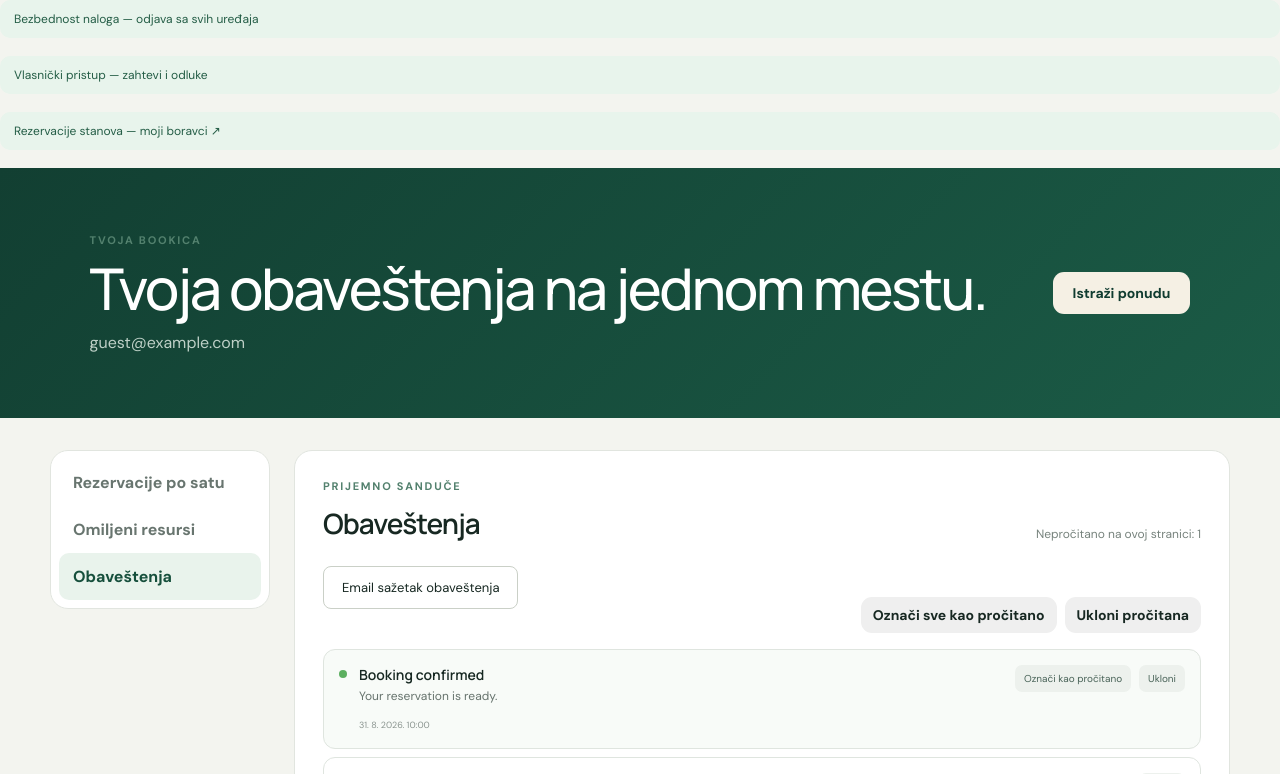
Test: AccountDashboard notification inbox › marks an individual notification as read and updates the unread count
The image size is (1280, 774).
expect the heading "Booking confirmed" is shown: met, box [359,665,484,684]
expect the text "Nepročitano na ovoj stranici: 1" is shown: met, box [1036,526,1201,542]
Click the button "Označi kao pročitano".
click(1073, 678)  # box [1015,665,1131,692]
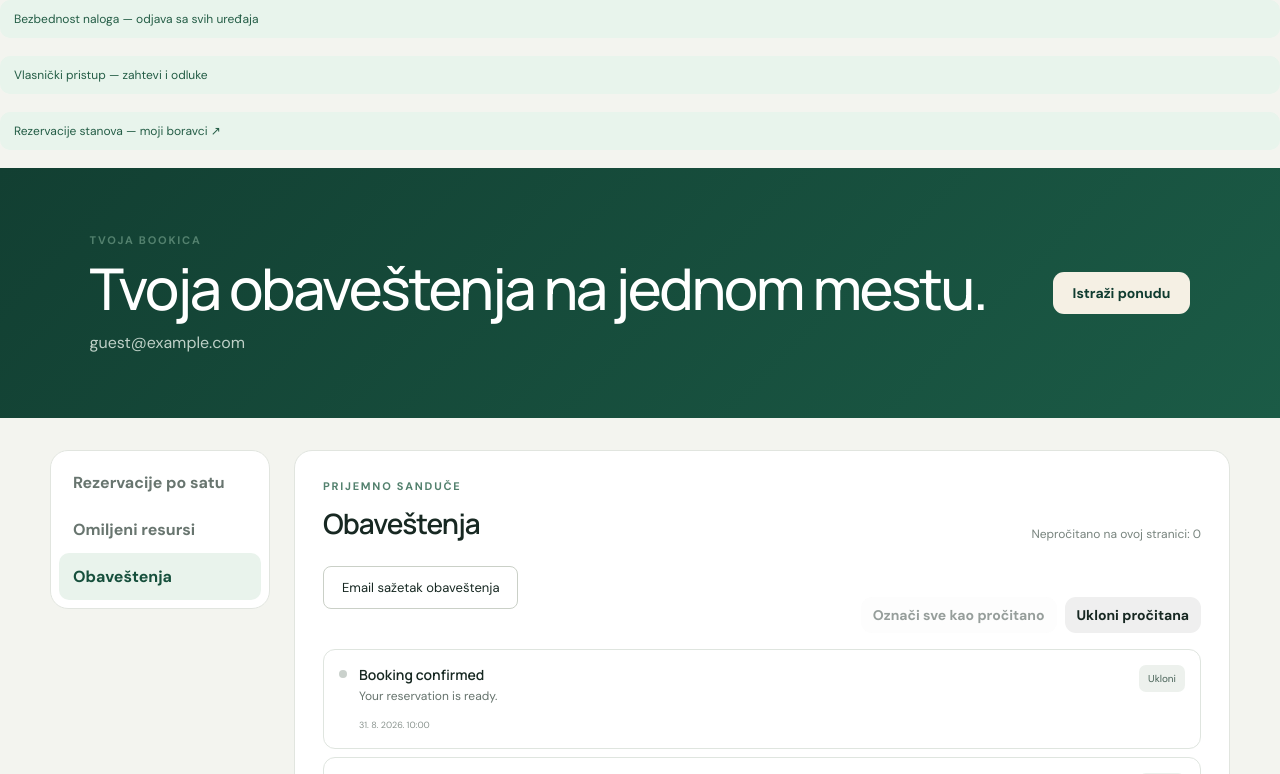
expect the text "Nepročitano na ovoj stranici: 0" is shown: met, box [1031,526,1201,542]
expect the button "Označi kao pročitano" is gone: met
